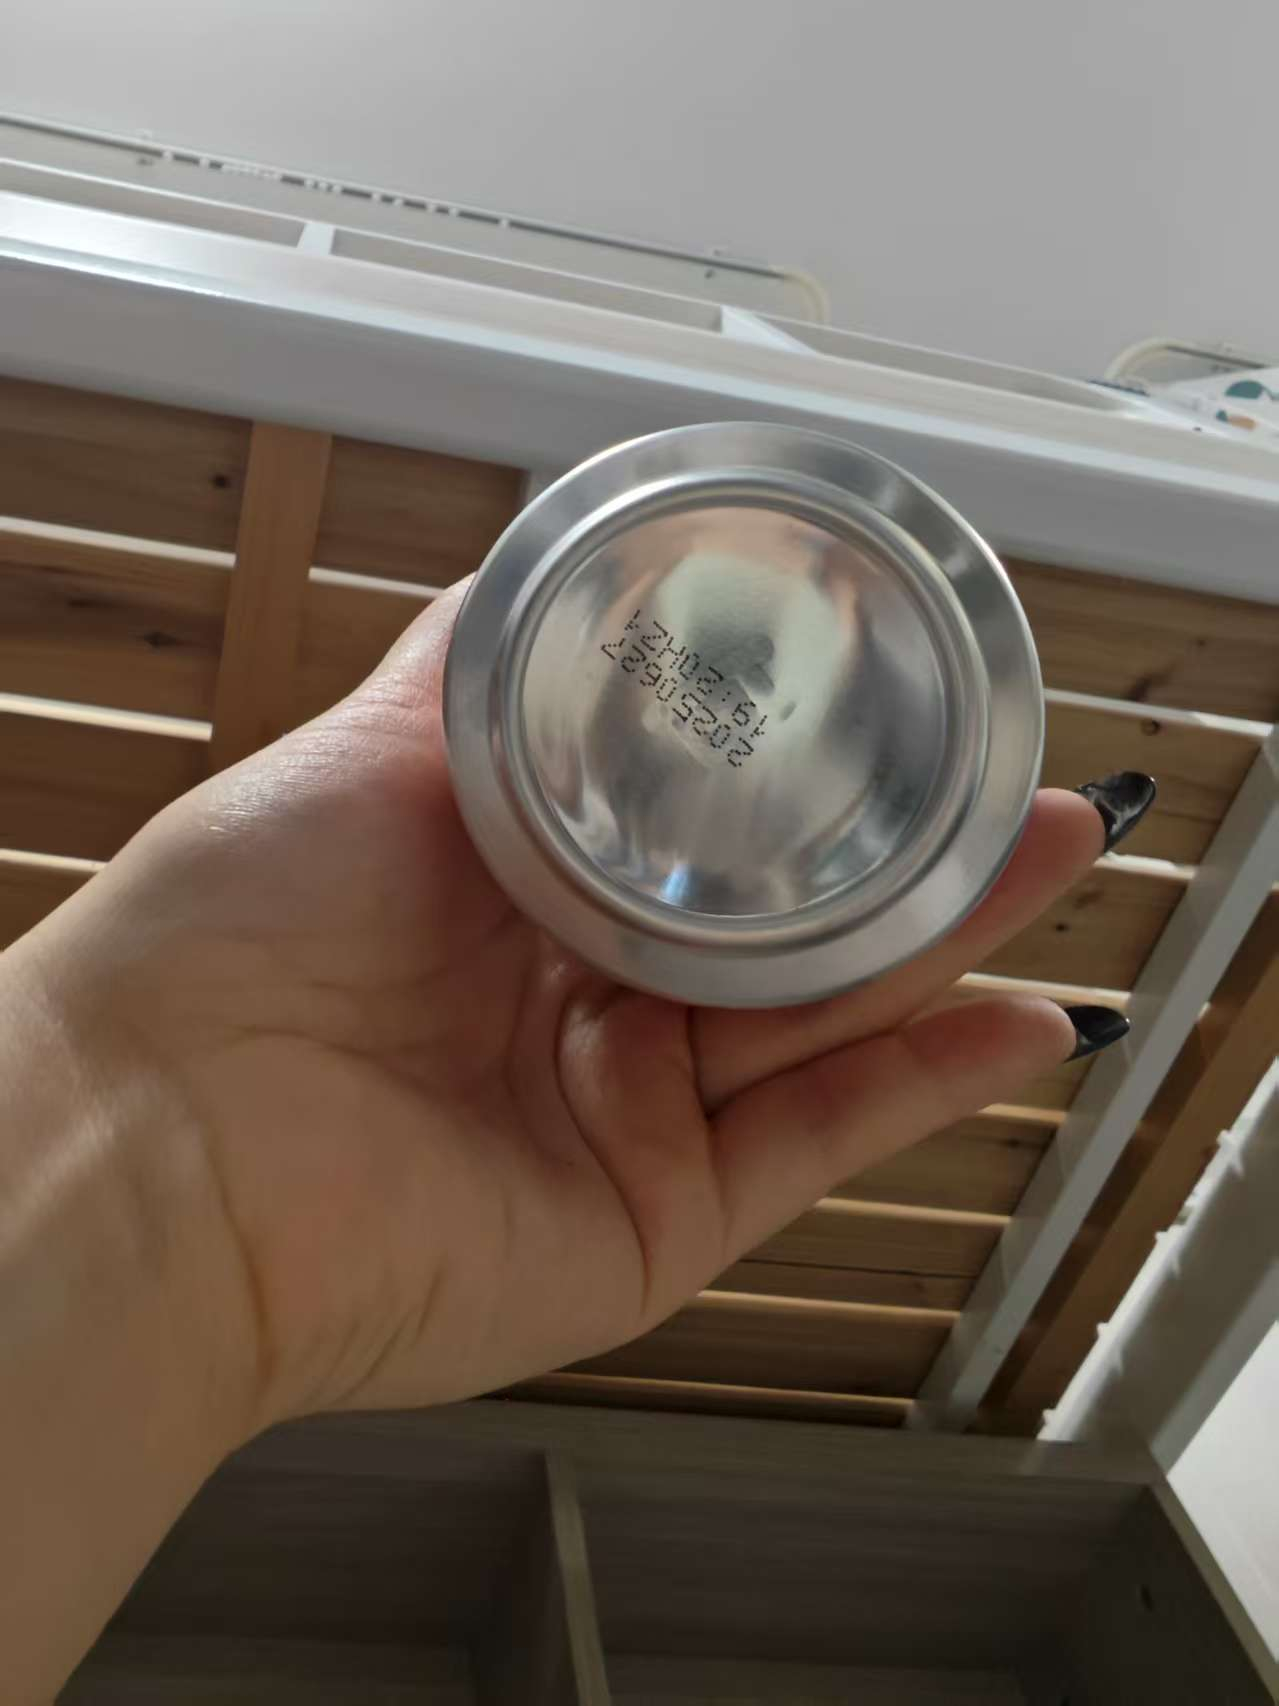可乐: (434, 379, 1066, 1006)
